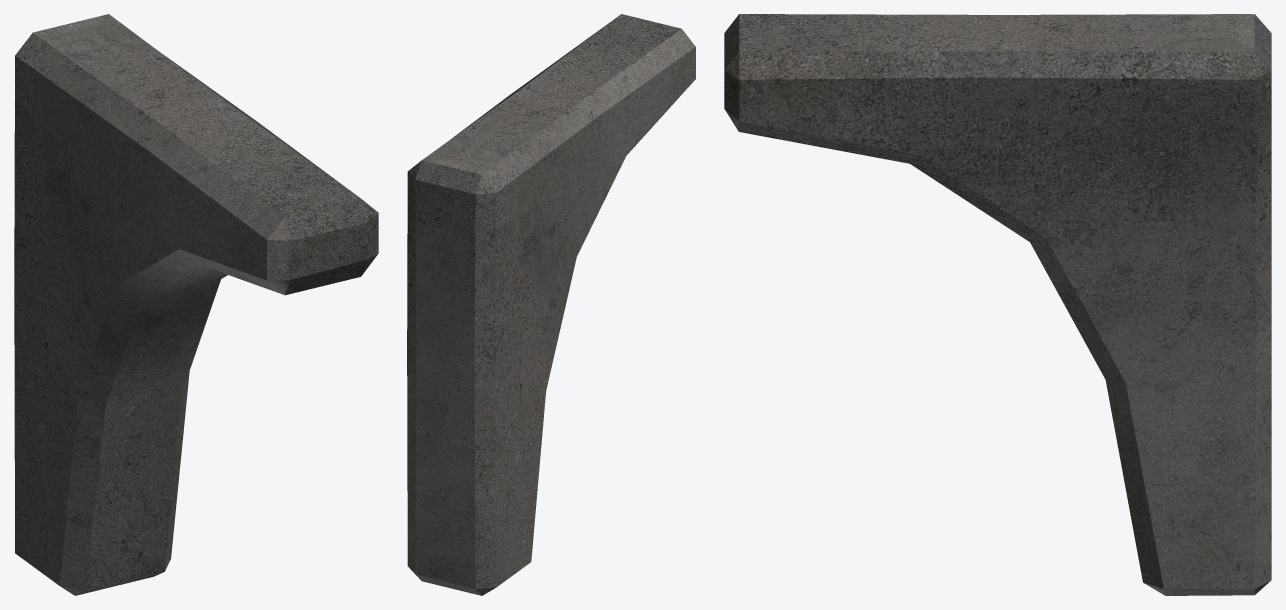
Rendered from Prop_Beam_1.fbx.
The picture shows the model from 3 angles, left to right: view 1: azimuth 30°, elevation 25°; view 2: azimuth 150°, elevation 25°; view 3: azimuth 270°, elevation 25°; orthographic projection. The views are drawn at different scales.
Visible parts, largest first — view 1: Prop_Beam_1; view 2: Prop_Beam_1; view 3: Prop_Beam_1.
Boxes of the visible parts, x1,y1,x2,y2 form: Prop_Beam_1: [14, 14, 378, 595]; Prop_Beam_1: [407, 14, 695, 595]; Prop_Beam_1: [724, 14, 1271, 595].
Size of the model in its own units: 0.3613 by 1.64 by 1.5.
1 material, 1 textured.
